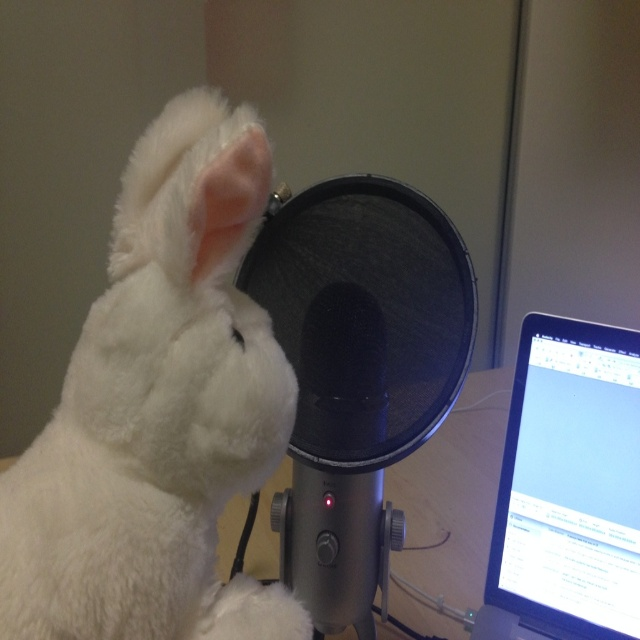Rabbit: (0, 85, 316, 639)
